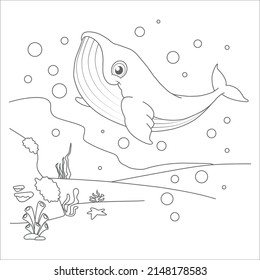fish: (72, 30, 250, 147)
